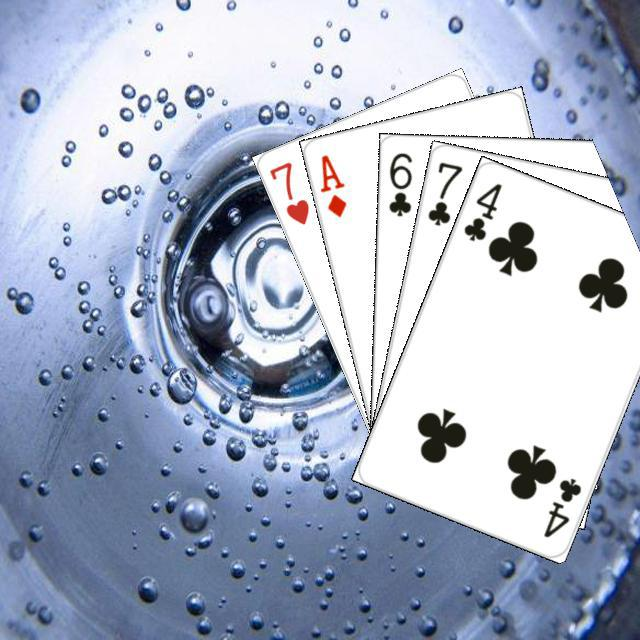4c: (458, 178, 504, 244), (538, 473, 583, 540)
6c: (383, 147, 414, 218)
7c: (423, 157, 464, 228)
7h: (264, 156, 311, 227)
Ad: (315, 149, 348, 219)
